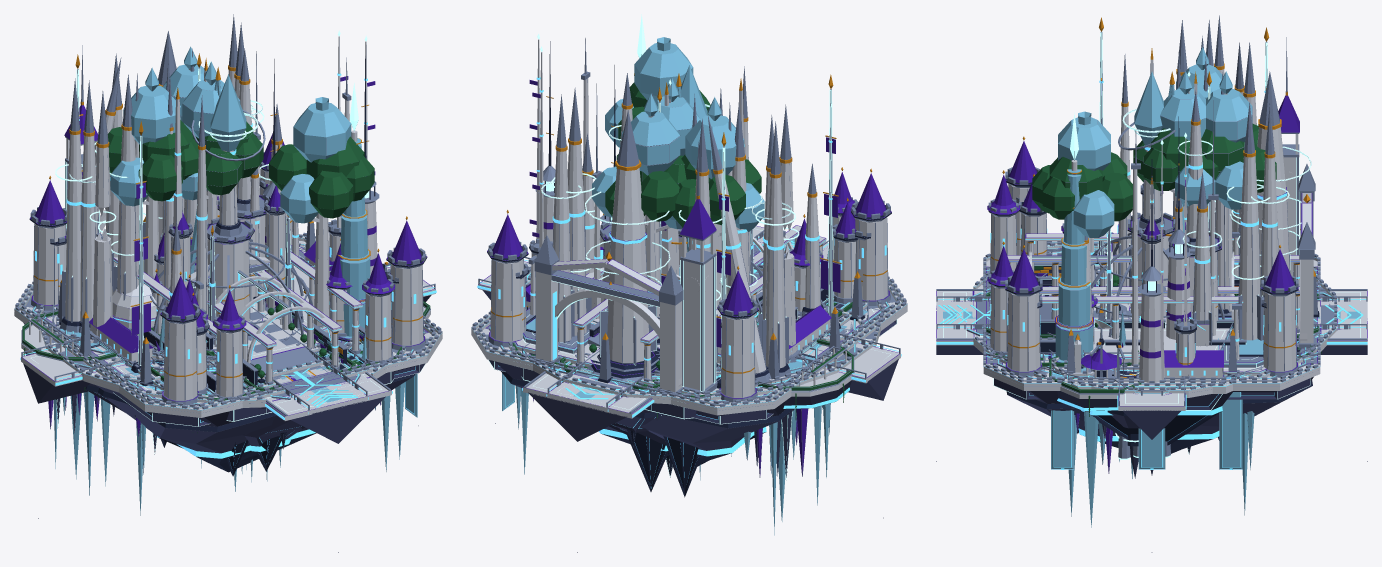
File: sky_citadel_structure.fbx
3 renders of one model, left to right at view 1: azimuth 30°, elevation 25°; view 2: azimuth 150°, elevation 25°; view 3: azimuth 270°, elevation 25°, orthographic. The views are drawn at different scales.
Visible parts, largest first — view 1: chunk_spire_court, chunk_sky_tree_grove, chunk_boss_clearing, chunk_path_colonnade, chunk_aether_springs, chunk_parade_ground, chunk_spire_court_b, chunk_path_straight, chunk_side_garden, chunk_entry, chunk_garden_terrace, chunk_archive (+19 smaller); view 2: chunk_spire_court, chunk_boss_clearing, chunk_garden_terrace, chunk_sky_tree_grove, chunk_archive, chunk_path_colonnade, chunk_parade_ground, chunk_armory, chunk_aether_springs, chunk_spire_court_b, chunk_path_long_span, chunk_entry (+14 smaller); view 3: chunk_spire_court, chunk_boss_clearing, chunk_aether_springs, chunk_garden_terrace, chunk_sky_tree_grove, chunk_armory, chunk_archive, chunk_side_garden, chunk_parade_ground, chunk_spire_court_b, chunk_crossroads, chunk_path_bend_west (+16 smaller).
Part boxes in pixels (x1=…): chunk_spire_court: x1=14, y1=22, x2=442, y2=472; chunk_sky_tree_grove: x1=107, y1=67, x2=401, y2=473; chunk_boss_clearing: x1=37, y1=31, x2=405, y2=443; chunk_path_colonnade: x1=38, y1=78, x2=360, y2=479; chunk_aether_springs: x1=20, y1=83, x2=425, y2=552; chunk_parade_ground: x1=20, y1=14, x2=436, y2=426; chunk_spire_court_b: x1=52, y1=57, x2=403, y2=471; chunk_path_straight: x1=168, y1=95, x2=333, y2=397; chunk_side_garden: x1=151, y1=61, x2=356, y2=403; chunk_entry: x1=109, y1=74, x2=352, y2=382; chunk_garden_terrace: x1=21, y1=46, x2=430, y2=495; chunk_archive: x1=64, y1=45, x2=394, y2=421; chunk_spire_court: x1=471, y1=87, x2=907, y2=465; chunk_boss_clearing: x1=508, y1=110, x2=884, y2=415; chunk_garden_terrace: x1=560, y1=93, x2=854, y2=505; chunk_sky_tree_grove: x1=512, y1=37, x2=852, y2=418; chunk_archive: x1=520, y1=142, x2=850, y2=435; chunk_path_colonnade: x1=552, y1=121, x2=811, y2=521; chunk_parade_ground: x1=477, y1=94, x2=901, y2=424; chunk_armory: x1=525, y1=132, x2=869, y2=497; chunk_aether_springs: x1=489, y1=14, x2=901, y2=552; chunk_spire_court_b: x1=511, y1=38, x2=869, y2=491; chunk_path_long_span: x1=515, y1=74, x2=864, y2=477; chunk_entry: x1=557, y1=104, x2=830, y2=403; chunk_spire_court: x1=983, y1=42, x2=1367, y2=453; chunk_boss_clearing: x1=936, y1=71, x2=1336, y2=399; chunk_aether_springs: x1=936, y1=112, x2=1367, y2=552; chunk_garden_terrace: x1=937, y1=71, x2=1367, y2=527; chunk_sky_tree_grove: x1=971, y1=47, x2=1341, y2=367; chunk_armory: x1=937, y1=27, x2=1366, y2=445; chunk_archive: x1=936, y1=37, x2=1367, y2=360; chunk_side_garden: x1=975, y1=71, x2=1215, y2=328; chunk_parade_ground: x1=953, y1=103, x2=1366, y2=399; chunk_spire_court_b: x1=984, y1=130, x2=1367, y2=438; chunk_crossroads: x1=1096, y1=71, x2=1358, y2=439; chunk_path_bend_west: x1=1096, y1=159, x2=1190, y2=395.
Size of the model in its own units: 256 by 256 by 256.
